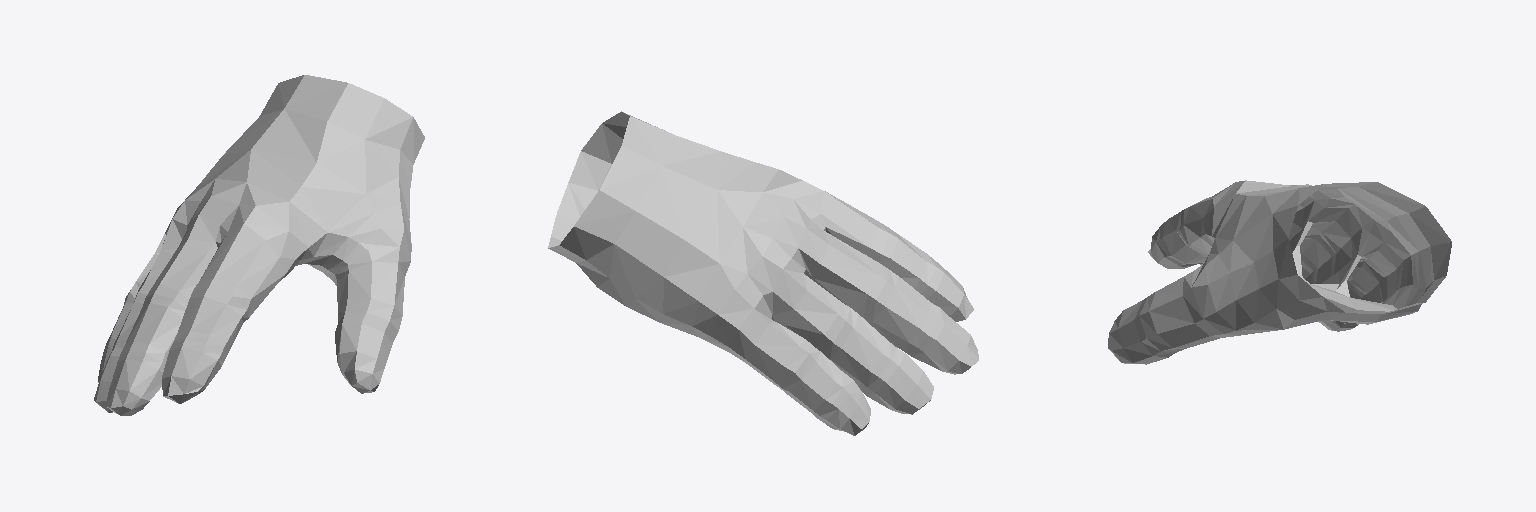
File: sd_hand.obj
3 views of the same model, side by side, from view 1: azimuth 30°, elevation 25°; view 2: azimuth 150°, elevation 25°; view 3: azimuth 270°, elevation 25° (orthographic).
Parts seen in each view (by area): view 1: Armor.APA_ref.smd.mesh_0.003_Armor.APA_ref.smd.mesh_0.005; view 2: Armor.APA_ref.smd.mesh_0.003_Armor.APA_ref.smd.mesh_0.005; view 3: Armor.APA_ref.smd.mesh_0.003_Armor.APA_ref.smd.mesh_0.005.
Part boxes in pixels (left/top/right/bottom): Armor.APA_ref.smd.mesh_0.003_Armor.APA_ref.smd.mesh_0.005: left=94, top=75, right=424, bottom=415; Armor.APA_ref.smd.mesh_0.003_Armor.APA_ref.smd.mesh_0.005: left=548, top=111, right=978, bottom=435; Armor.APA_ref.smd.mesh_0.003_Armor.APA_ref.smd.mesh_0.005: left=1108, top=180, right=1451, bottom=364.
Bounding box in the file's own units: 7.91 × 5.45 × 6.63.